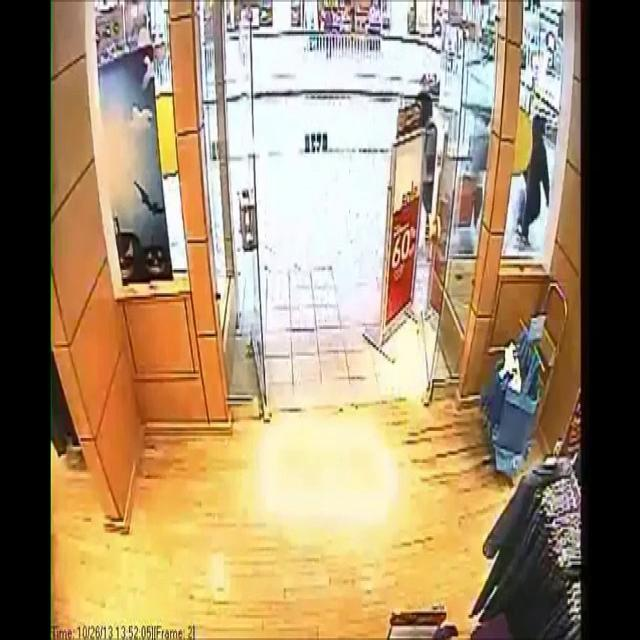normal: (419, 84, 441, 170)
